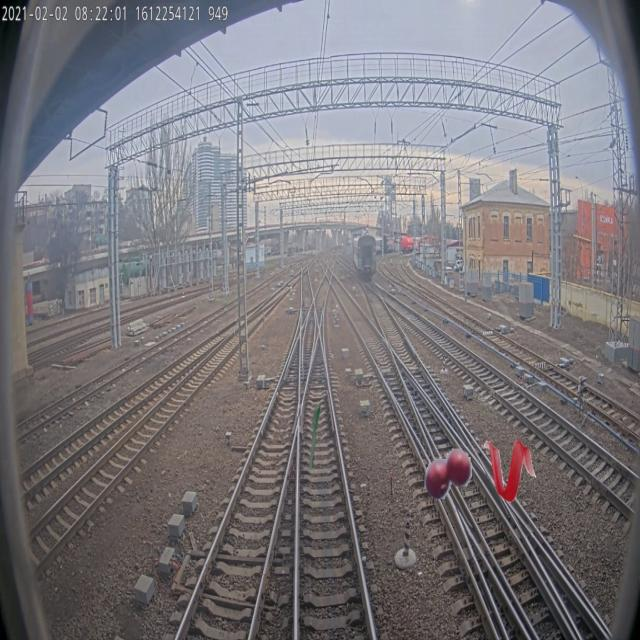balloon: (423, 438, 473, 502)
floating object: (483, 438, 537, 502), (309, 406, 321, 470)
